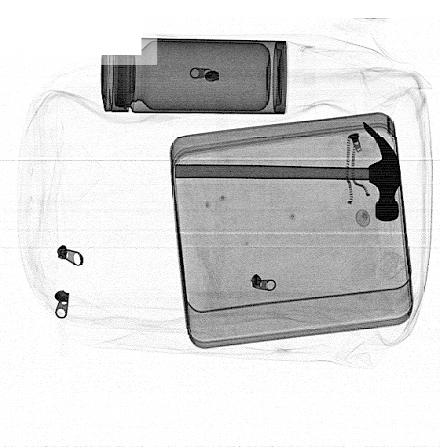Hammer: (174, 119, 402, 223)
